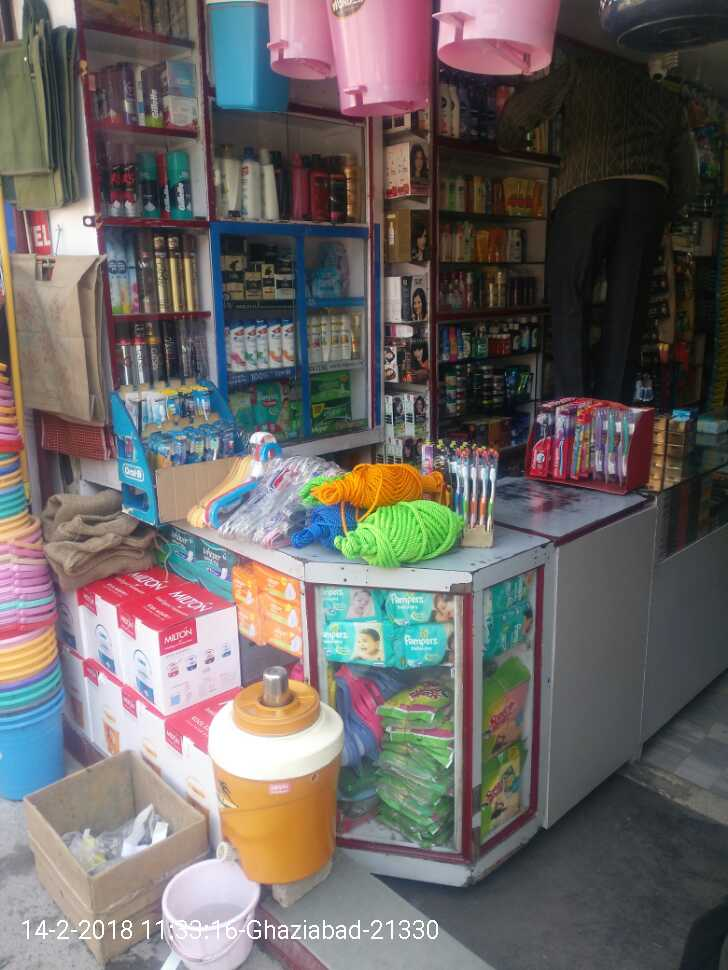ambipureVesus: (127, 227, 139, 312), (107, 225, 118, 313), (118, 227, 127, 313)
gillete: (136, 153, 160, 218), (171, 153, 193, 219), (142, 70, 165, 127), (160, 152, 170, 218)
venus: (313, 268, 339, 295), (321, 241, 344, 268)
